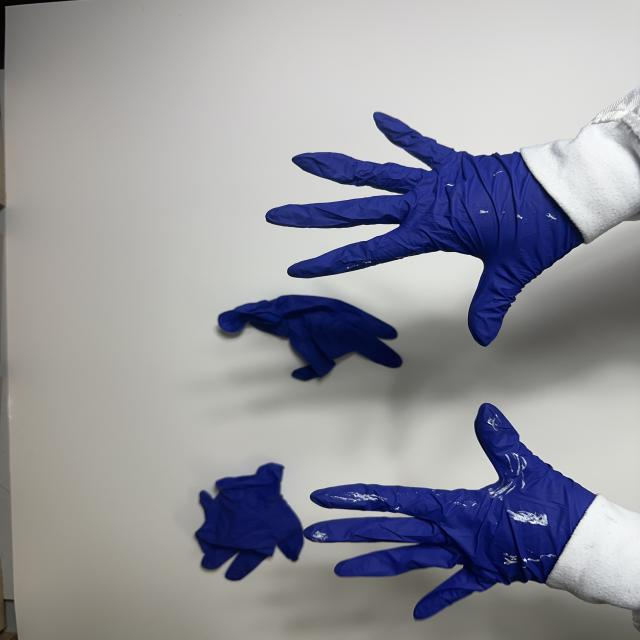gloves_contaminated: (266, 112, 584, 346), (304, 403, 595, 619)
